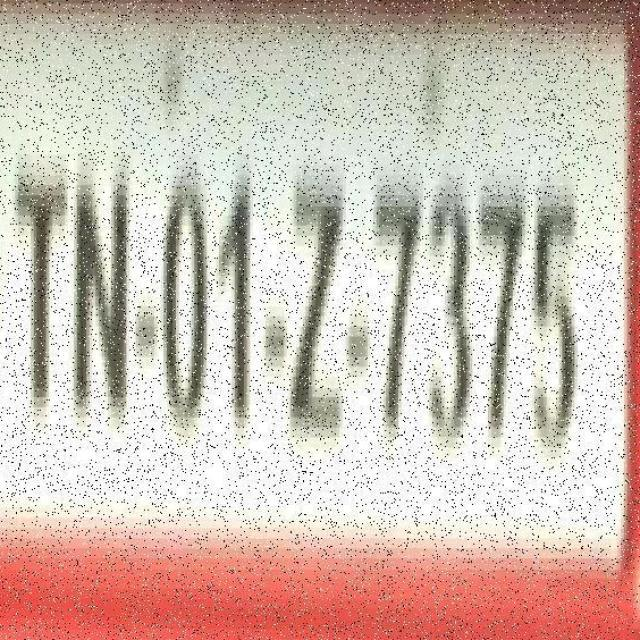license-plate: (5, 31, 638, 624)
